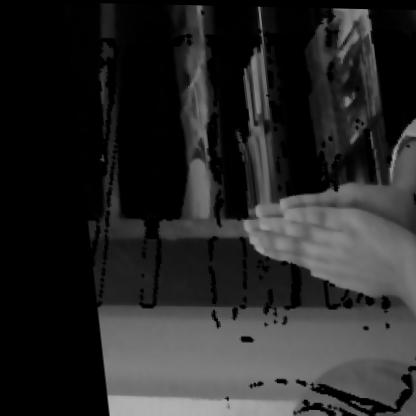namaste: (209, 133, 415, 349)
